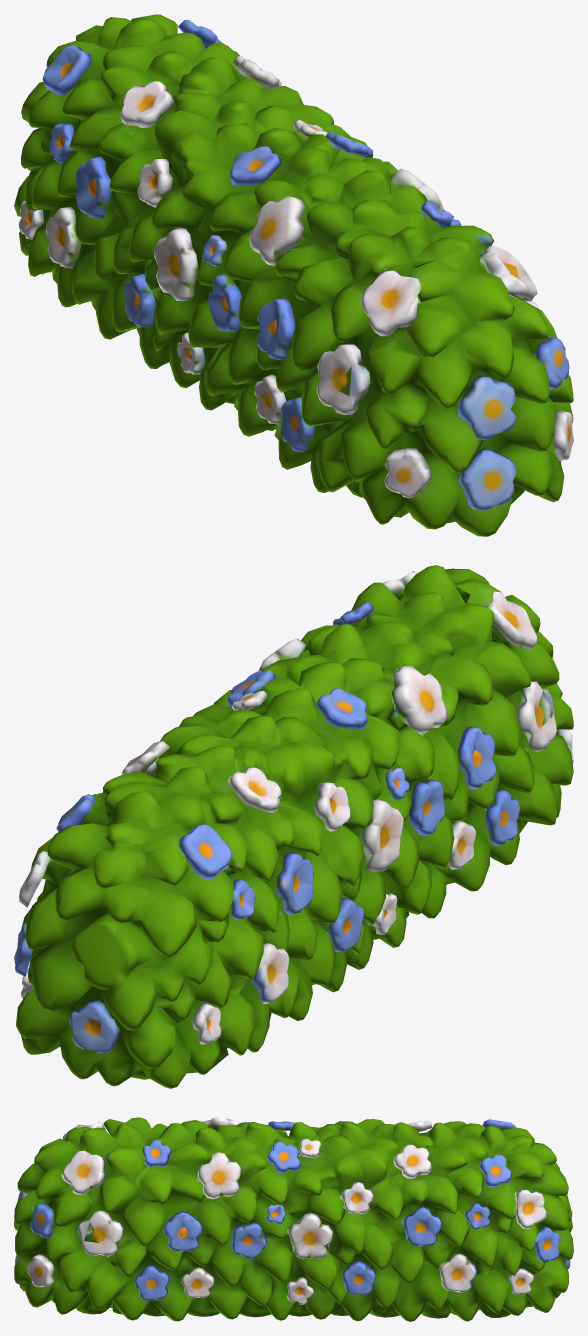
File: NEW_Hedge_SM_tex4k_pbr_src.fbx
The picture shows the model from 3 angles, top to bottom: view 1: azimuth 30°, elevation 25°; view 2: azimuth 150°, elevation 25°; view 3: azimuth 270°, elevation 25°; orthographic projection. The views are drawn at different scales.
Visible parts, largest first — view 1: tripo_107563ce_efd1_4b03_8ad0_7449b65b5dbd; view 2: tripo_107563ce_efd1_4b03_8ad0_7449b65b5dbd; view 3: tripo_107563ce_efd1_4b03_8ad0_7449b65b5dbd.
Part boxes in pixels (<box>): tripo_107563ce_efd1_4b03_8ad0_7449b65b5dbd: <box>14,14,573,536</box>; tripo_107563ce_efd1_4b03_8ad0_7449b65b5dbd: <box>14,565,573,1088</box>; tripo_107563ce_efd1_4b03_8ad0_7449b65b5dbd: <box>14,1117,573,1321</box>.
Size of the model in its own units: 0.313 by 0.3394 by 0.9995.
Materials: 1 (1 with a texture image).
